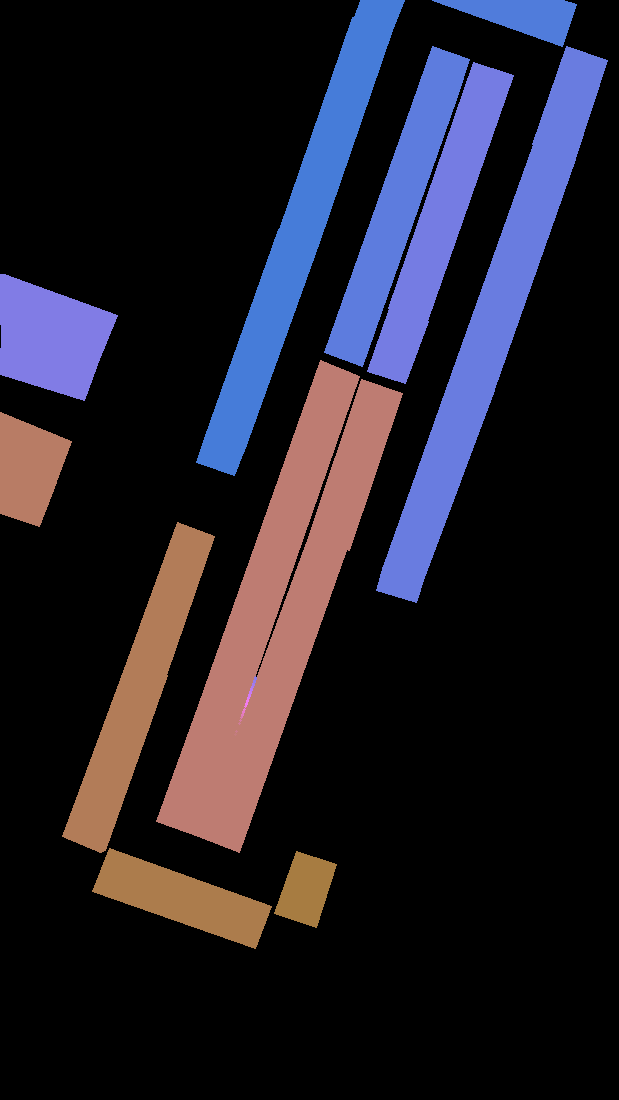parkingspot: (198, 360, 359, 721), (198, 537, 346, 852), (324, 86, 456, 366), (388, 62, 513, 321), (451, 144, 575, 389), (204, 229, 319, 453), (279, 17, 392, 242), (383, 374, 494, 580), (62, 660, 167, 852), (92, 848, 271, 948), (308, 379, 402, 550), (127, 522, 214, 675), (156, 705, 239, 836), (0, 274, 117, 359), (532, 46, 607, 158), (0, 322, 100, 400), (432, 0, 576, 46), (0, 412, 71, 484), (274, 851, 336, 927), (367, 308, 428, 383), (0, 462, 56, 526), (418, 46, 469, 99), (376, 565, 423, 602), (196, 438, 243, 475), (354, 0, 404, 30)
